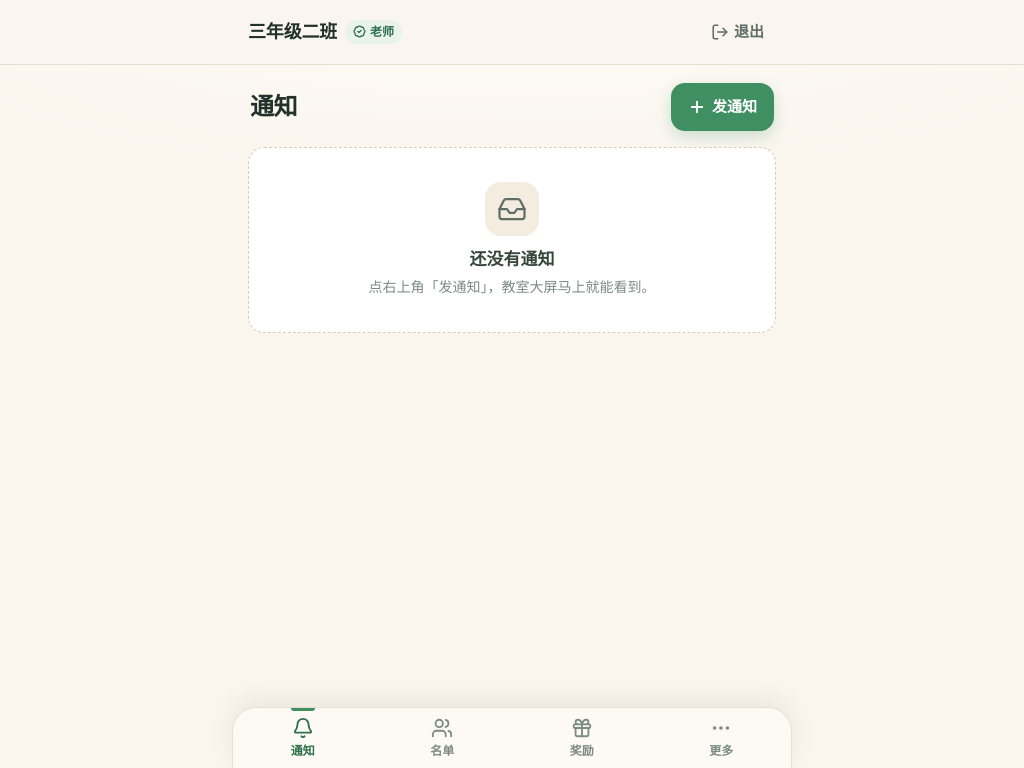
老师手机版 › TestLogoutReturnsToExpiredPage
Check: the text "三年级二班" is shown, box [248,18,337,46]
Click the button "退出" at (738, 32), box [699,8,776,56]
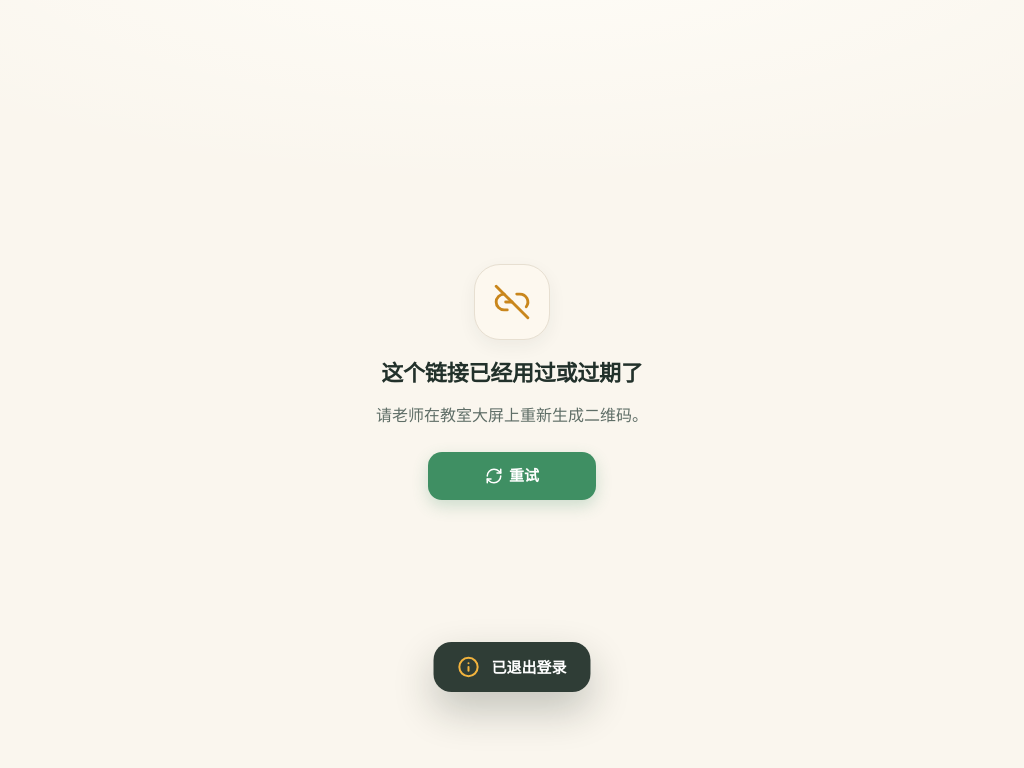
Check: the heading "这个链接已经用过或过期了" is shown, box [381,358,643,389]
